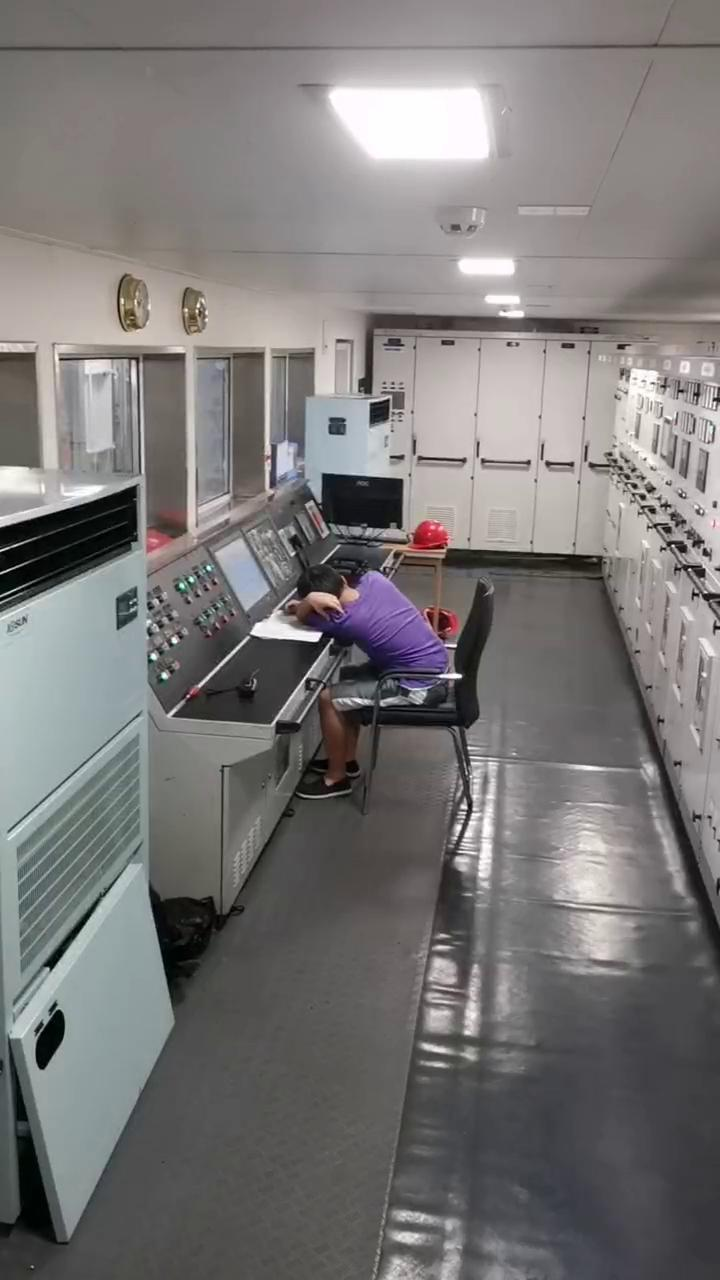sleep: (285, 564, 458, 704)
